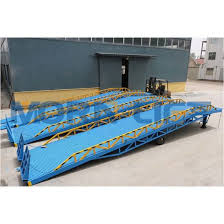Yard Ramp: (2, 88, 222, 183)
